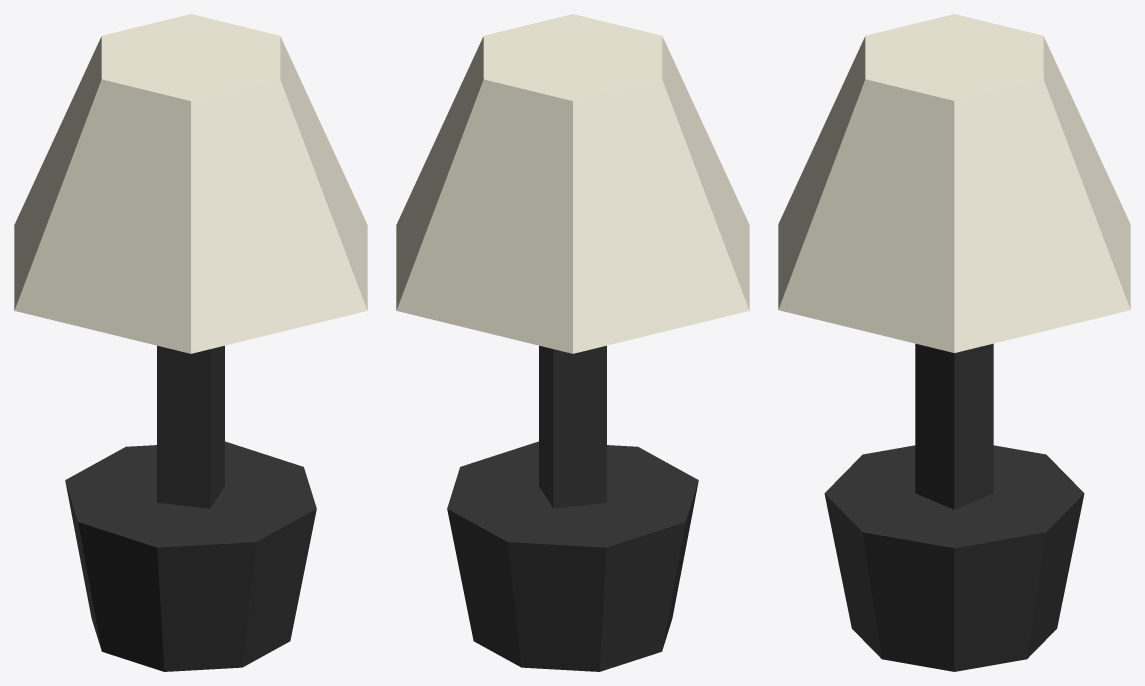
Rendered from Lamp_Table_1.fbx.
3 views of the same model, side by side, from view 1: azimuth 30°, elevation 25°; view 2: azimuth 150°, elevation 25°; view 3: azimuth 270°, elevation 25° (orthographic).
Parts seen in each view (by area): view 1: polySurface1487; view 2: polySurface1487; view 3: polySurface1487.
Part boxes in pixels (<box>): polySurface1487: <box>14,14,367,671</box>; polySurface1487: <box>396,14,749,671</box>; polySurface1487: <box>778,14,1130,671</box>.
Bounding box in the file's own units: 0.5362 × 0.8307 × 0.4643.
Materials: 1 (1 with a texture image).
